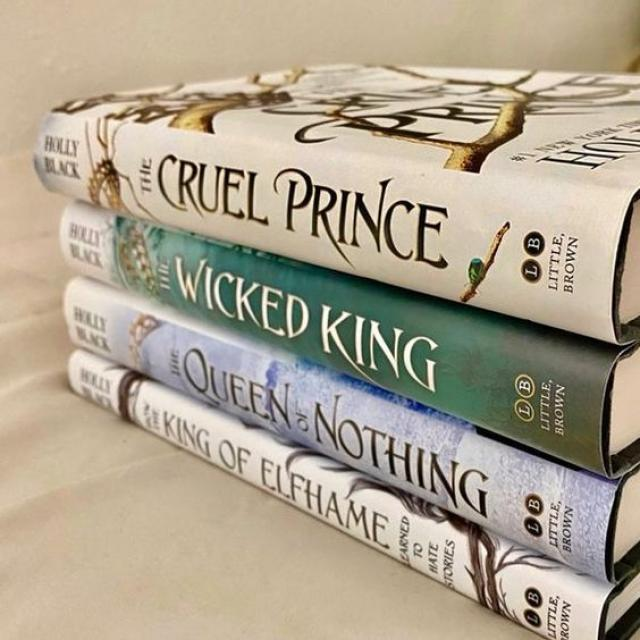book: (66, 278, 621, 576), (59, 201, 639, 479), (69, 351, 610, 639), (44, 114, 624, 341)
